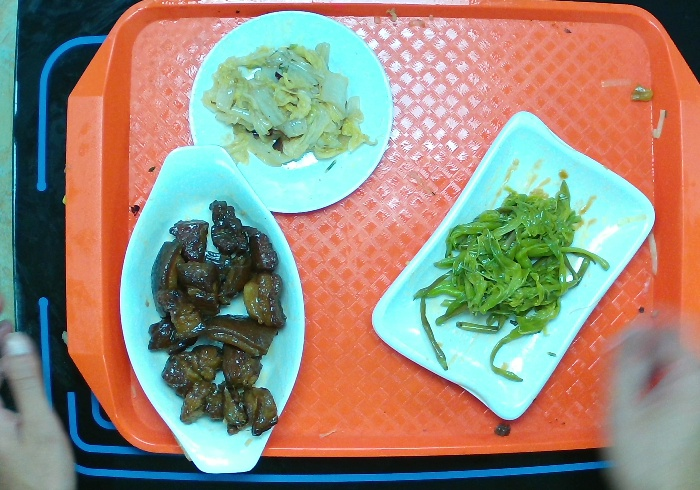RJxy-Si_Fang_Ao_Bian_Wan: (366, 110, 657, 426)
RJxy-Xiao_Yuan_Die: (185, 9, 392, 215)
RJxy-Yu_Pan: (120, 141, 307, 472)
